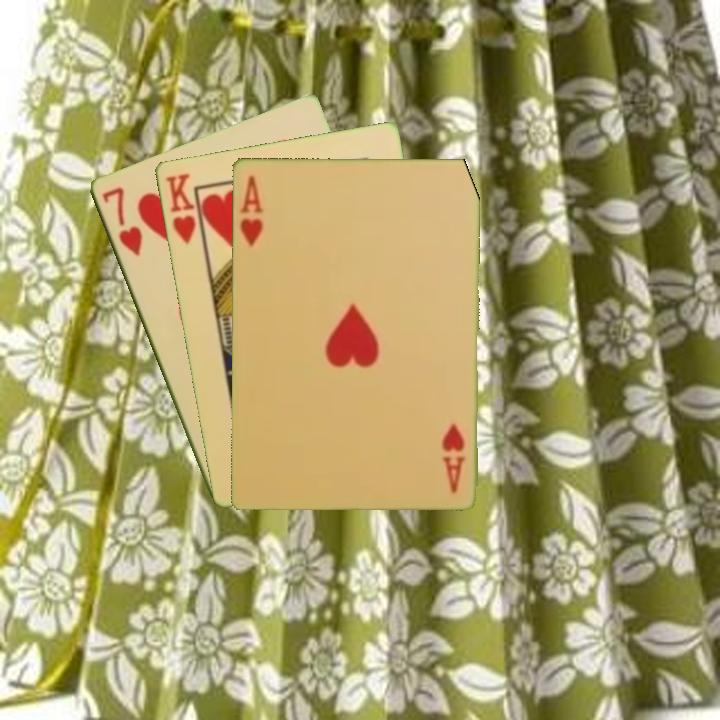7h: (98, 183, 145, 260)
Ah: (236, 172, 266, 249), (440, 420, 468, 496)
Kh: (162, 169, 206, 250)
